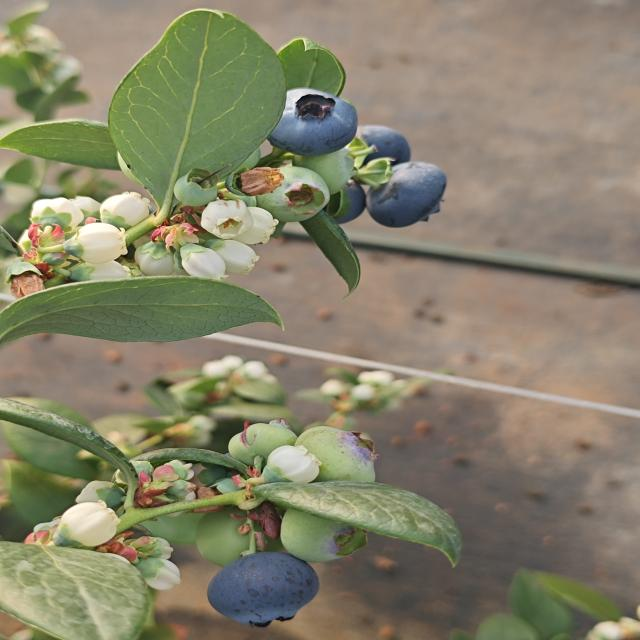ripe: (204, 550, 322, 630), (265, 86, 360, 158), (363, 160, 449, 230), (332, 113, 414, 184), (311, 174, 370, 228)
